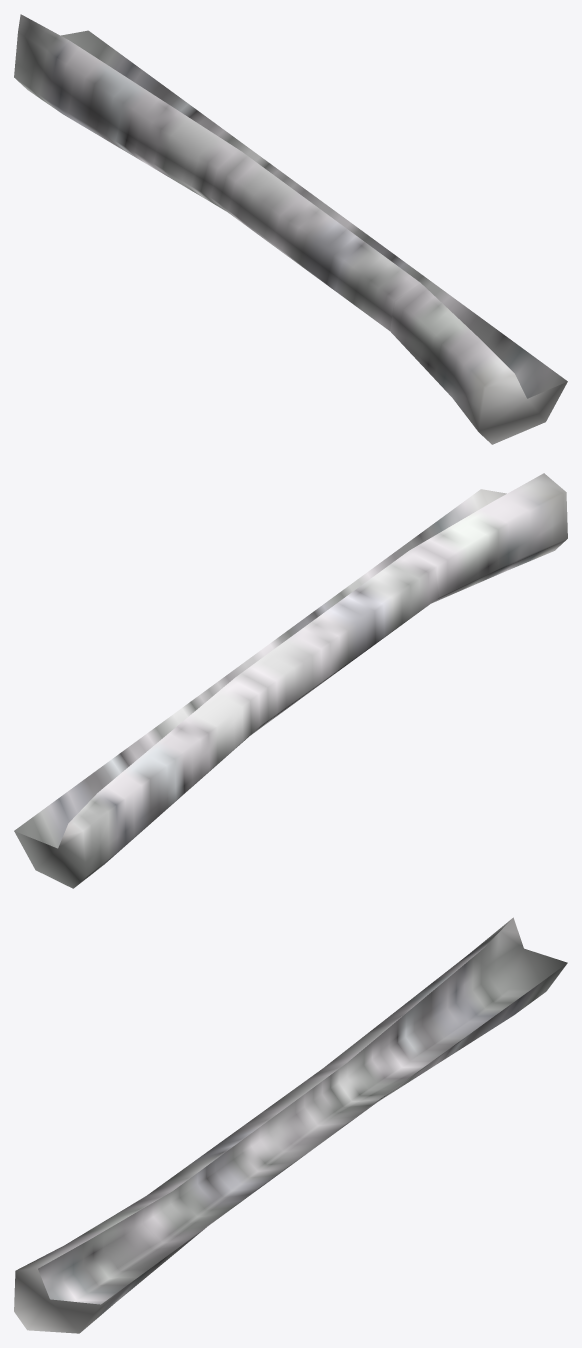
3 views of the same model, one above another, from view 1: azimuth 30°, elevation 25°; view 2: azimuth 150°, elevation 25°; view 3: azimuth 330°, elevation 25° (orthographic). The views are drawn at different scales.
Visible parts, largest first — view 1: wg_l_c_u; view 2: wg_l_c_u; view 3: wg_l_c_u.
Boxes of the visible parts, box(x1,y1,x2,y2) form: wg_l_c_u: box(14, 14, 567, 444); wg_l_c_u: box(14, 473, 567, 888); wg_l_c_u: box(14, 917, 567, 1333).
Size of the model in its own units: 0.2215 by 0.1709 by 2.11.
1 material, 1 textured.
